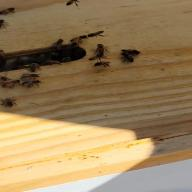Bee: (92, 44, 115, 70), (19, 72, 44, 90), (0, 95, 28, 111)
